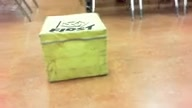cube: (39, 13, 108, 83)
